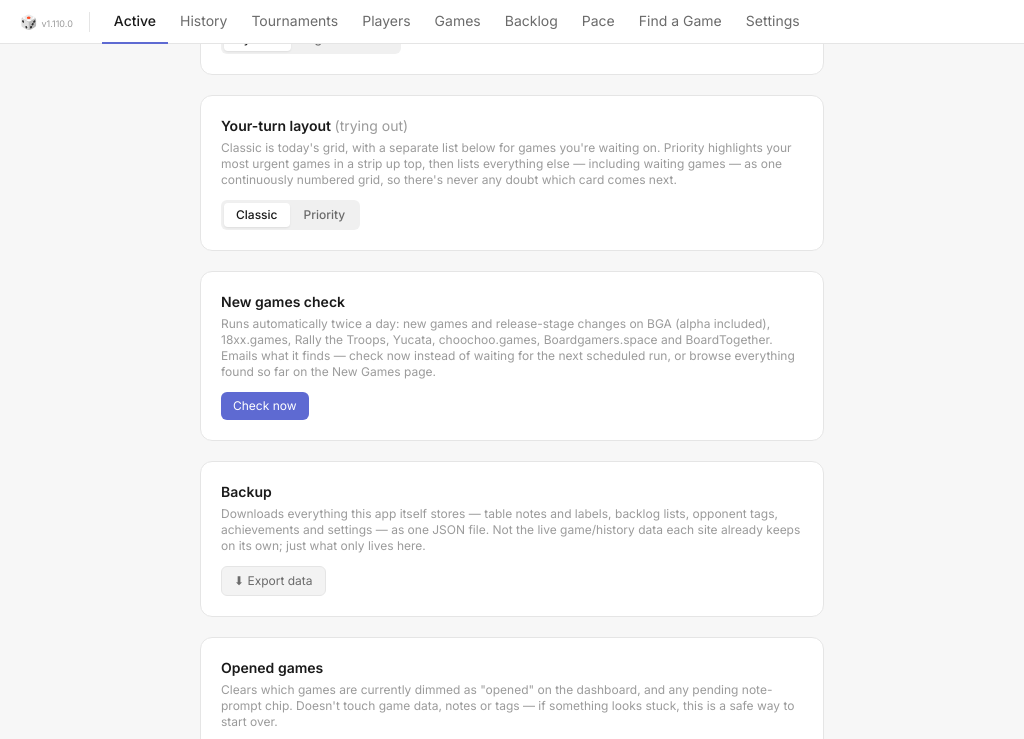
Test: Setup page: New games check › shows an error if the check endpoint itself fails
(page scrolled)
Click the button "Check now": (265, 406) [221,392,309,420]
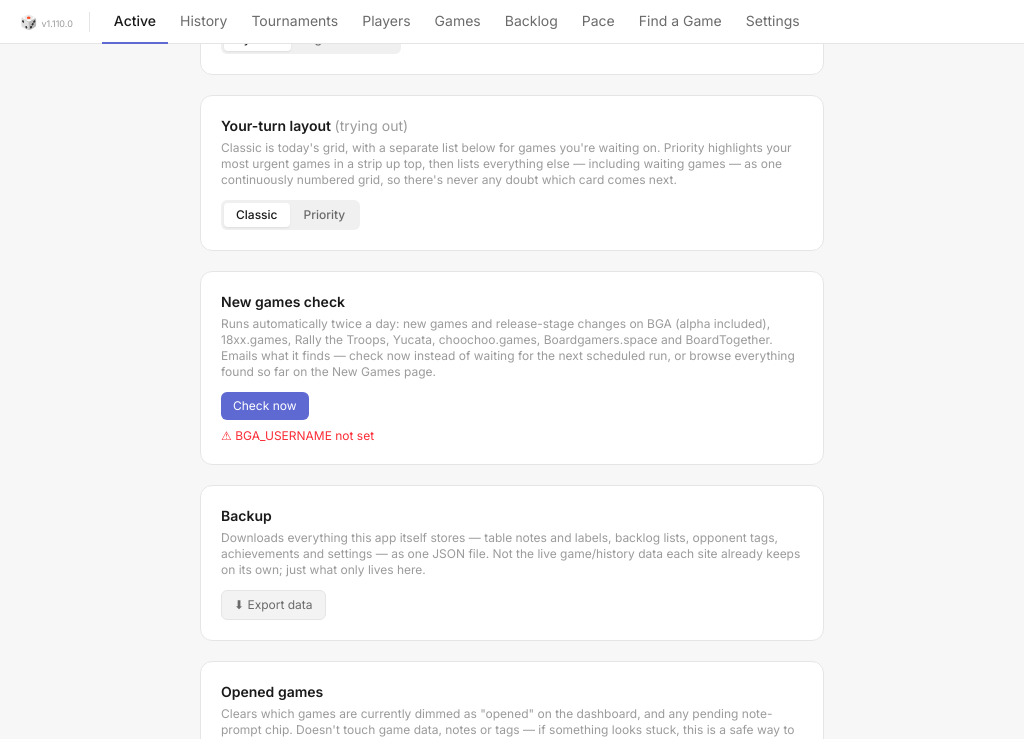
Expected: the text "⚠ BGA_USERNAME not set" is shown, [221,428,374,443]
